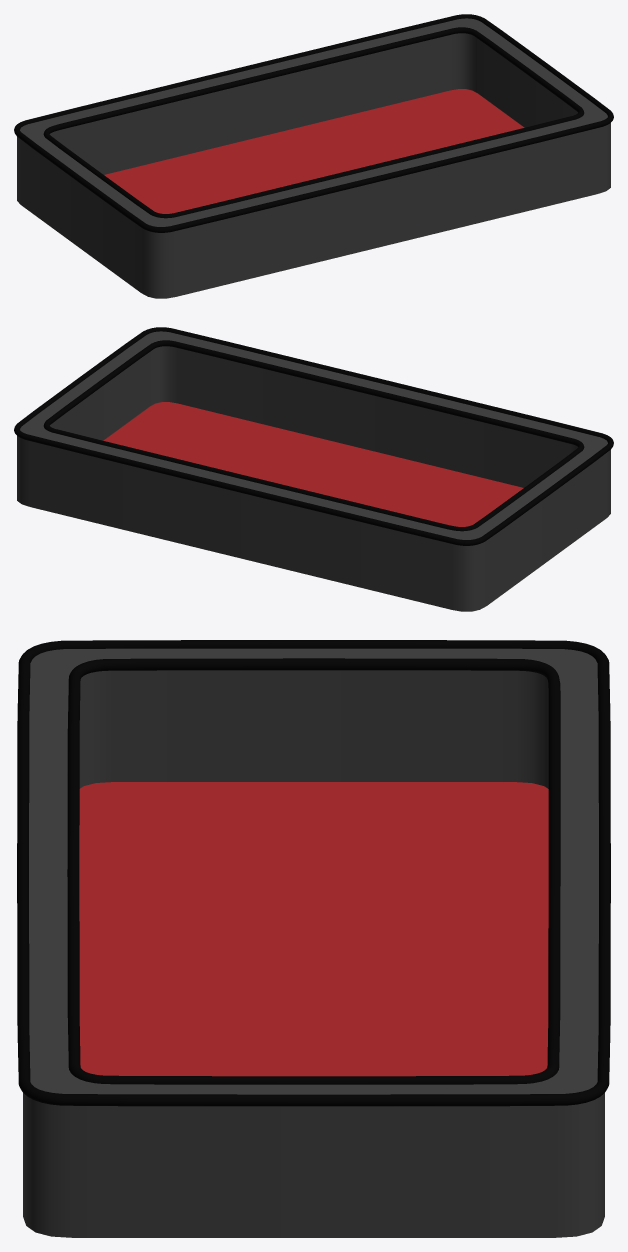
Rendered from outline.fbx.
3 views of the same model, one above another, from view 1: azimuth 30°, elevation 25°; view 2: azimuth 150°, elevation 25°; view 3: azimuth 270°, elevation 25° (orthographic). The views are drawn at different scales.
Visible parts, largest first — view 1: Box001, Shape001; view 2: Box001, Shape001; view 3: Box001, Shape001.
Boxes of the visible parts, box(x1,y1,x2,y2) form: Box001: box(17, 18, 610, 298); Shape001: box(14, 14, 613, 232); Box001: box(17, 331, 610, 611); Shape001: box(14, 327, 613, 545); Box001: box(23, 648, 604, 1237); Shape001: box(17, 640, 610, 1106).
Bounding box in the file's own units: 592 × 85.82 × 323.
